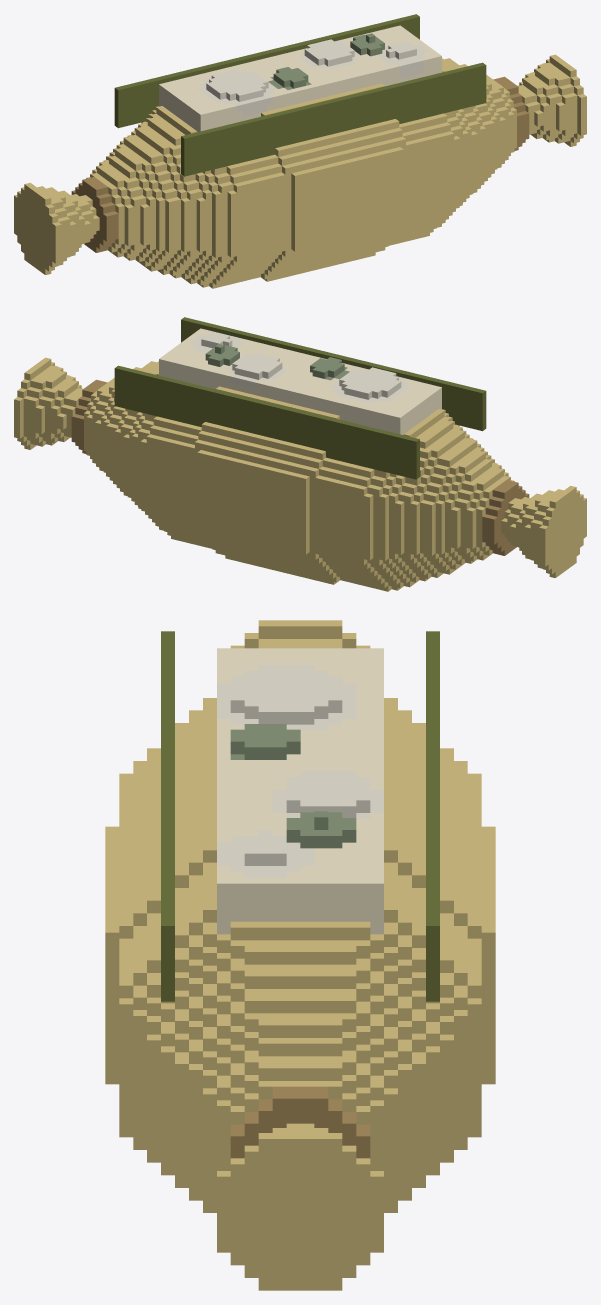
File: young_koji_done.glb
The picture shows the model from 3 angles, top to bottom: view 1: azimuth 30°, elevation 25°; view 2: azimuth 150°, elevation 25°; view 3: azimuth 270°, elevation 25°; orthographic projection. The views are drawn at different scales.
Visible parts, largest first — view 1: young_koji_done:compound; view 2: young_koji_done:compound; view 3: young_koji_done:compound.
Part boxes in pixels (bbox=[...]): young_koji_done:compound: bbox=[14, 14, 586, 288]; young_koji_done:compound: bbox=[14, 317, 586, 591]; young_koji_done:compound: bbox=[105, 620, 495, 1290].
Bounding box in the file's own units: 0.176 × 0.062 × 0.056.
